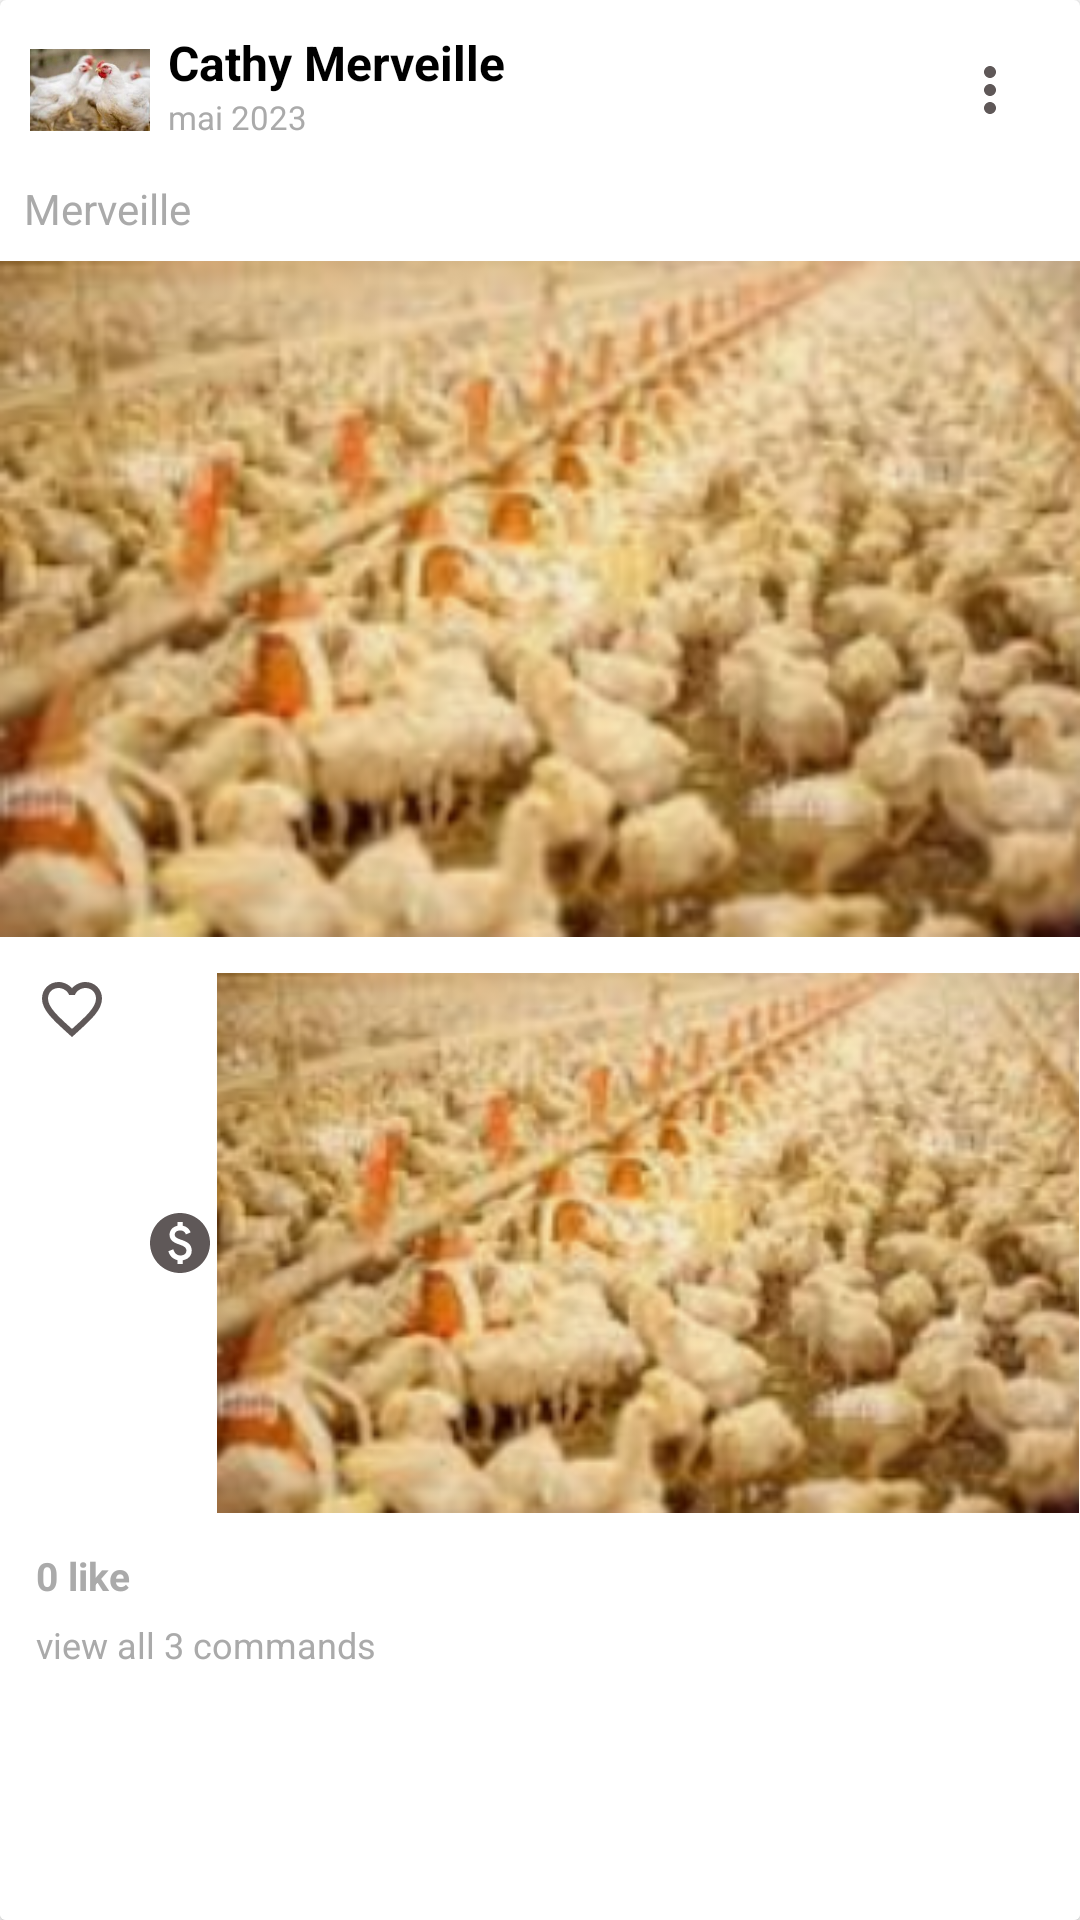

Icon click points for this 1080*1920 phone screenshot, format (x,y):
favorite border: (72,1009)
more vert: (990,90)
paid: (180,1243)
